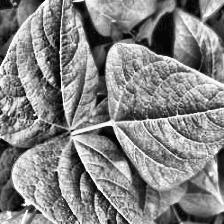Bean Rust: (101, 42, 224, 190), (0, 0, 99, 150)
